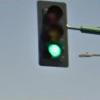Traffic light: (29, 2, 79, 79)
